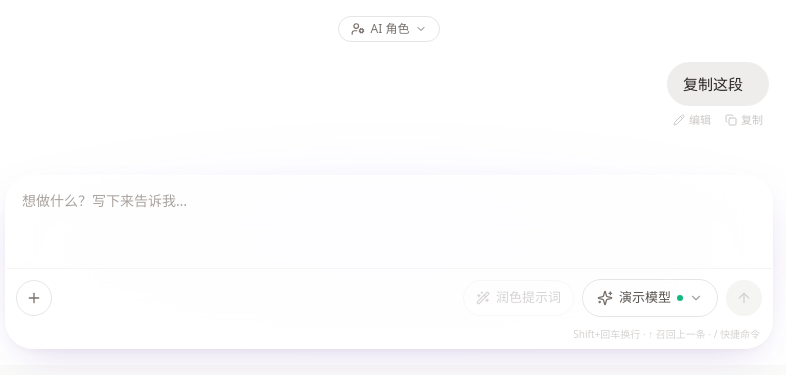
it: ChatPanel 消息列表 › 点击复制把正文写入剪贴板
The width and height of the screenshot is (786, 375).
Step 1. Click the button titled "复制" → (744, 120), box [719, 110, 769, 130]
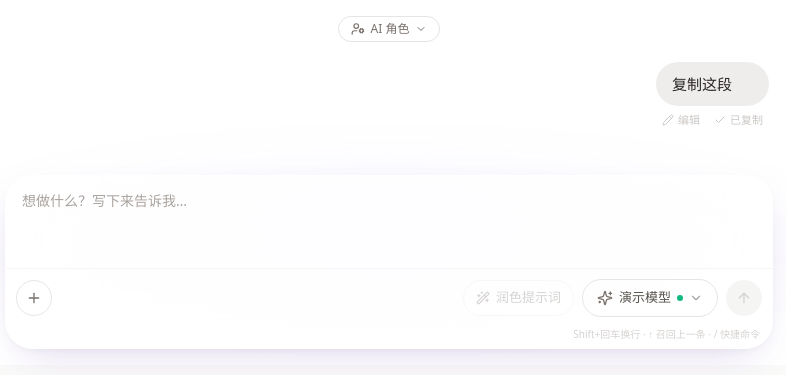
expect the button "已复制" is shown: met, box [708, 110, 769, 130]
